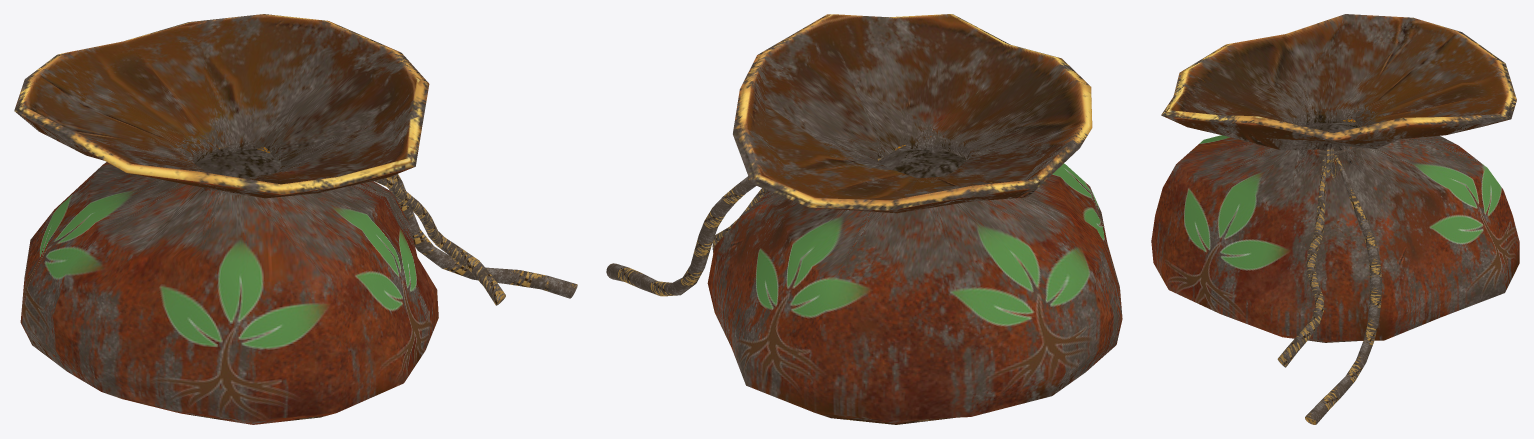
File: bag.glb
3 renders of one model, left to right at view 1: azimuth 30°, elevation 25°; view 2: azimuth 150°, elevation 25°; view 3: azimuth 270°, elevation 25°, orthographic. The views are drawn at different scales.
Visible parts, largest first — view 1: Sack_low, Rope4_low, Rope3_low; view 2: Sack_low, Rope4_low; view 3: Sack_low, Rope4_low, Rope3_low.
Part boxes in pixels (x1,y1,x2,y2): Sack_low: [14, 14, 438, 424]; Rope4_low: [389, 174, 577, 298]; Rope3_low: [374, 177, 505, 305]; Sack_low: [707, 14, 1122, 424]; Rope4_low: [606, 176, 756, 296]; Sack_low: [1151, 14, 1519, 342]; Rope4_low: [1305, 155, 1381, 424]; Rope3_low: [1277, 157, 1326, 367].
Size of the model in its own units: 6.2 by 3.35 by 4.76.
Materials: 1 (1 with a texture image).
